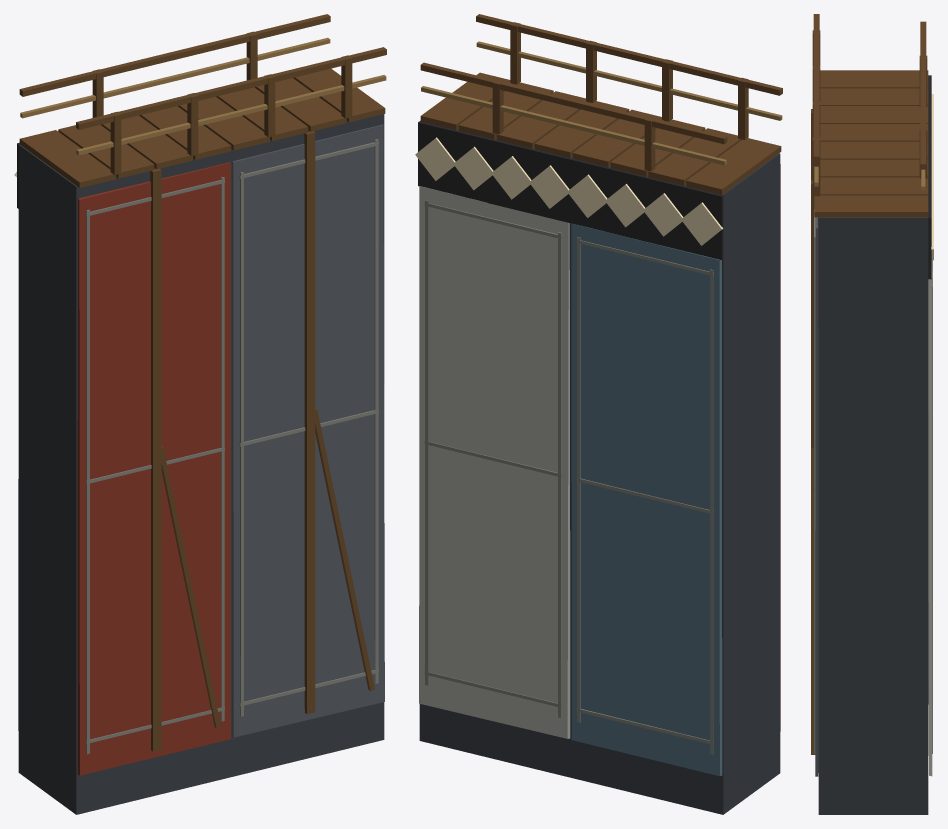
File: fort_ship_wall.glb
The picture shows the model from 3 angles, left to right: view 1: azimuth 30°, elevation 25°; view 2: azimuth 150°, elevation 25°; view 3: azimuth 270°, elevation 25°; orthographic projection. The views are drawn at different scales.
Visible parts, largest first — view 1: fort_ship_wall; view 2: fort_ship_wall; view 3: fort_ship_wall.
Part boxes in pixels (x1,y1,x2,y2): fort_ship_wall: (14,14,386,814); fort_ship_wall: (415,14,782,814); fort_ship_wall: (811,14,933,814).
Bounding box in the file's own units: 8.09 × 17.2 × 2.91.
